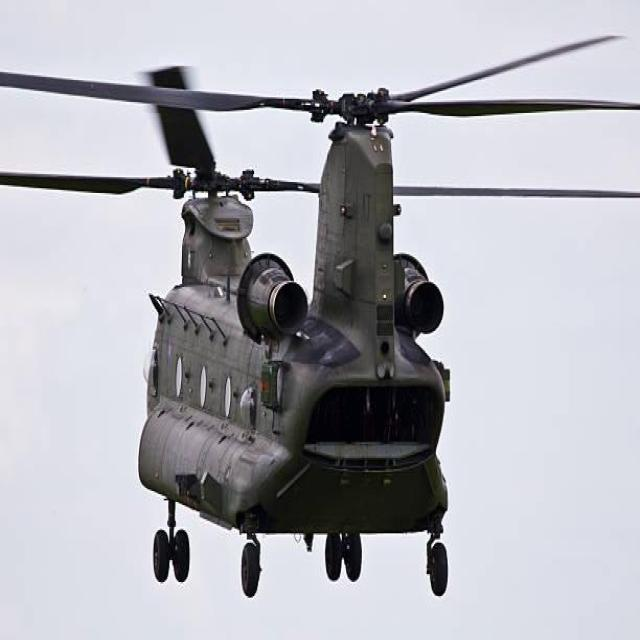Helicopter: (97, 76, 504, 619)
